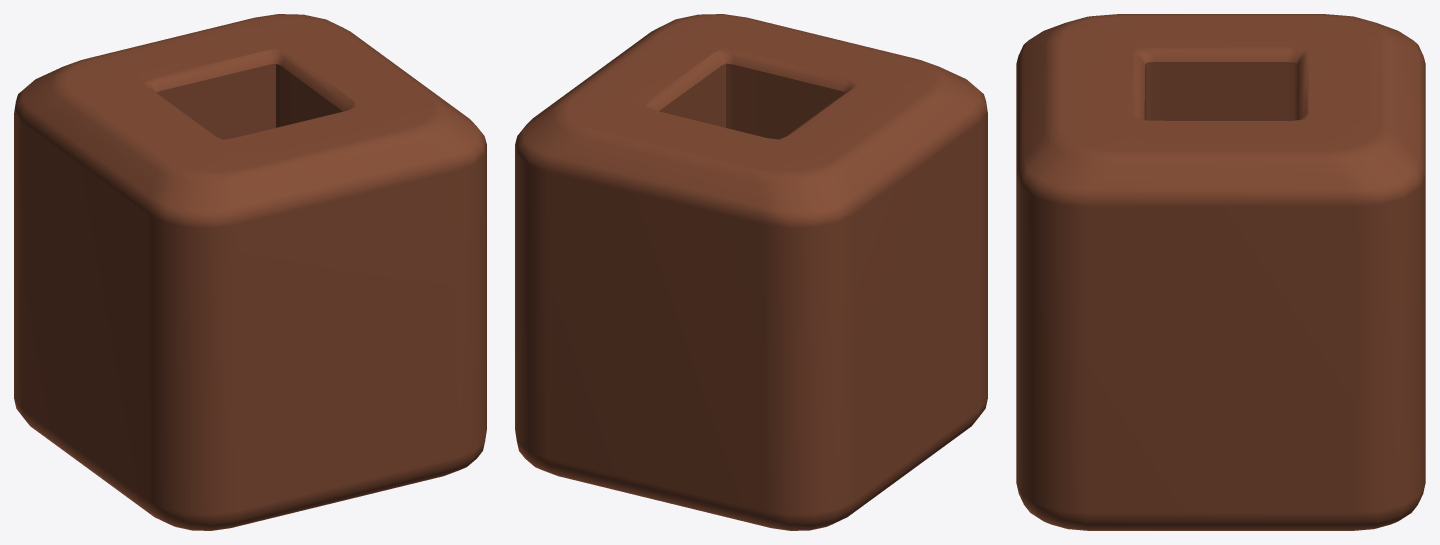
Rendered from Block.fbx.
The picture shows the model from 3 angles, left to right: view 1: azimuth 30°, elevation 25°; view 2: azimuth 150°, elevation 25°; view 3: azimuth 270°, elevation 25°; orthographic projection. The views are drawn at different scales.
Visible parts, largest first — view 1: Block; view 2: Block; view 3: Block.
Part boxes in pixels (bbox=[...]): Block: bbox=[14, 14, 486, 530]; Block: bbox=[515, 14, 987, 530]; Block: bbox=[1016, 14, 1425, 530].
Bounding box in the file's own units: 1 × 1 × 1.
1 material, 1 textured.
